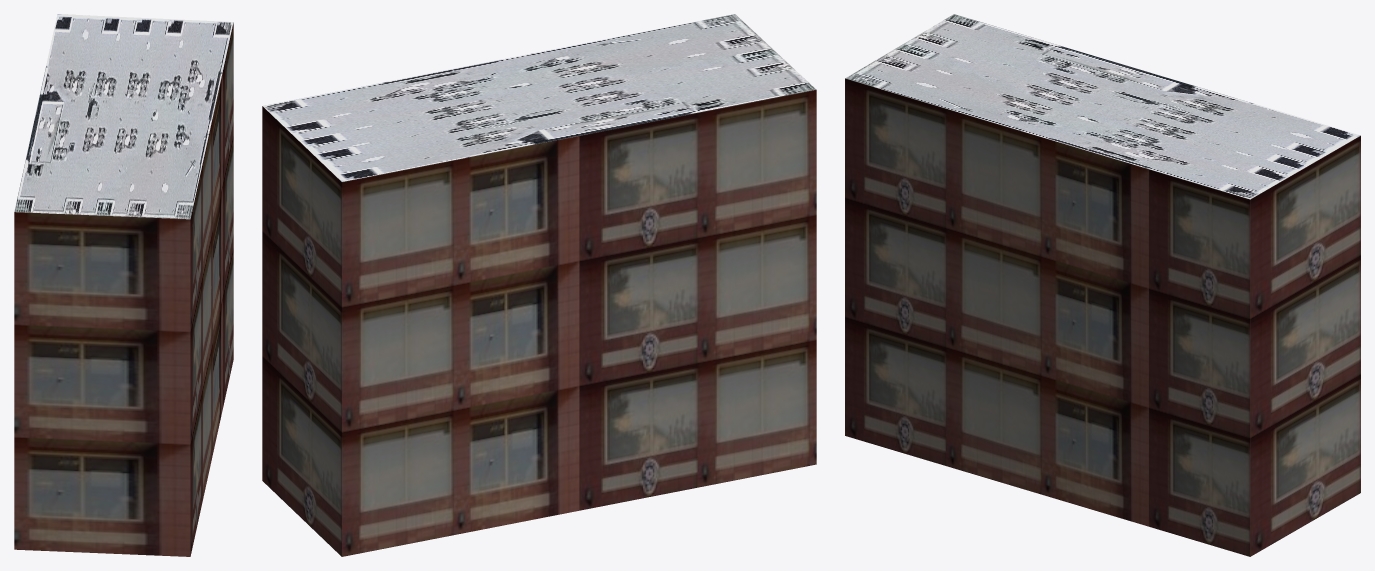
Rendered from ResTex__2427.fbx.
3 views of the same model, side by side, from view 1: azimuth 30°, elevation 25°; view 2: azimuth 150°, elevation 25°; view 3: azimuth 270°, elevation 25° (orthographic). The views are drawn at different scales.
Visible parts, largest first — view 1: CityEngineMaterial_13_m, CityEngineMaterial_4_m; view 2: CityEngineMaterial_13_m, CityEngineMaterial_4_m; view 3: CityEngineMaterial_13_m, CityEngineMaterial_4_m.
Boxes of the visible parts, x1,y1,x2,y2 form: CityEngineMaterial_13_m: [14, 23, 233, 556]; CityEngineMaterial_4_m: [14, 14, 233, 219]; CityEngineMaterial_13_m: [262, 89, 816, 556]; CityEngineMaterial_4_m: [263, 14, 815, 181]; CityEngineMaterial_13_m: [845, 78, 1360, 556]; CityEngineMaterial_4_m: [845, 14, 1360, 199].
Bounding box in the file's own units: 10.02 × 9 × 11.77.
2 materials, 2 textured.
